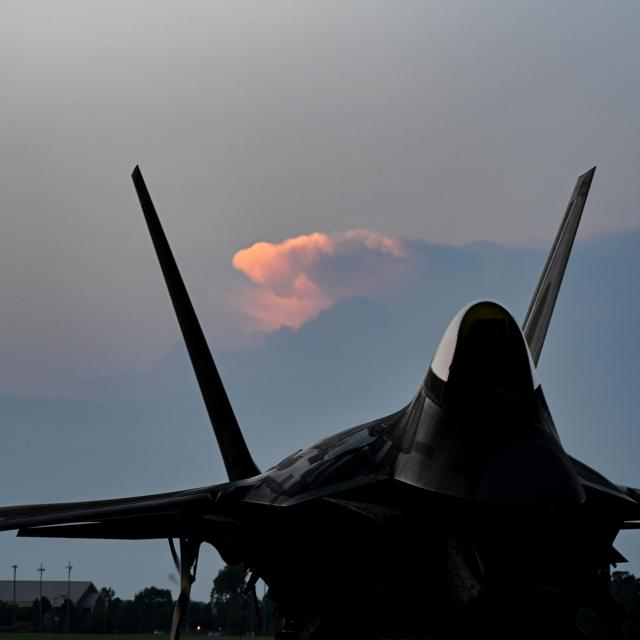MIL_Plane: (0, 163, 640, 640)
